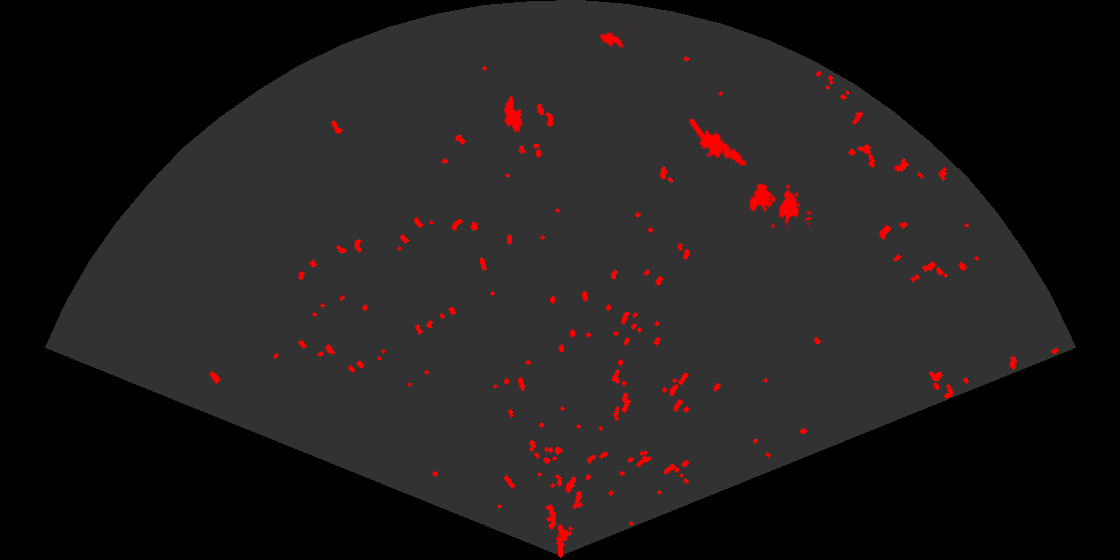AUV: (502, 94, 524, 134), (598, 26, 628, 50)
cage: (747, 181, 811, 228)
frogman: (689, 119, 748, 168)
